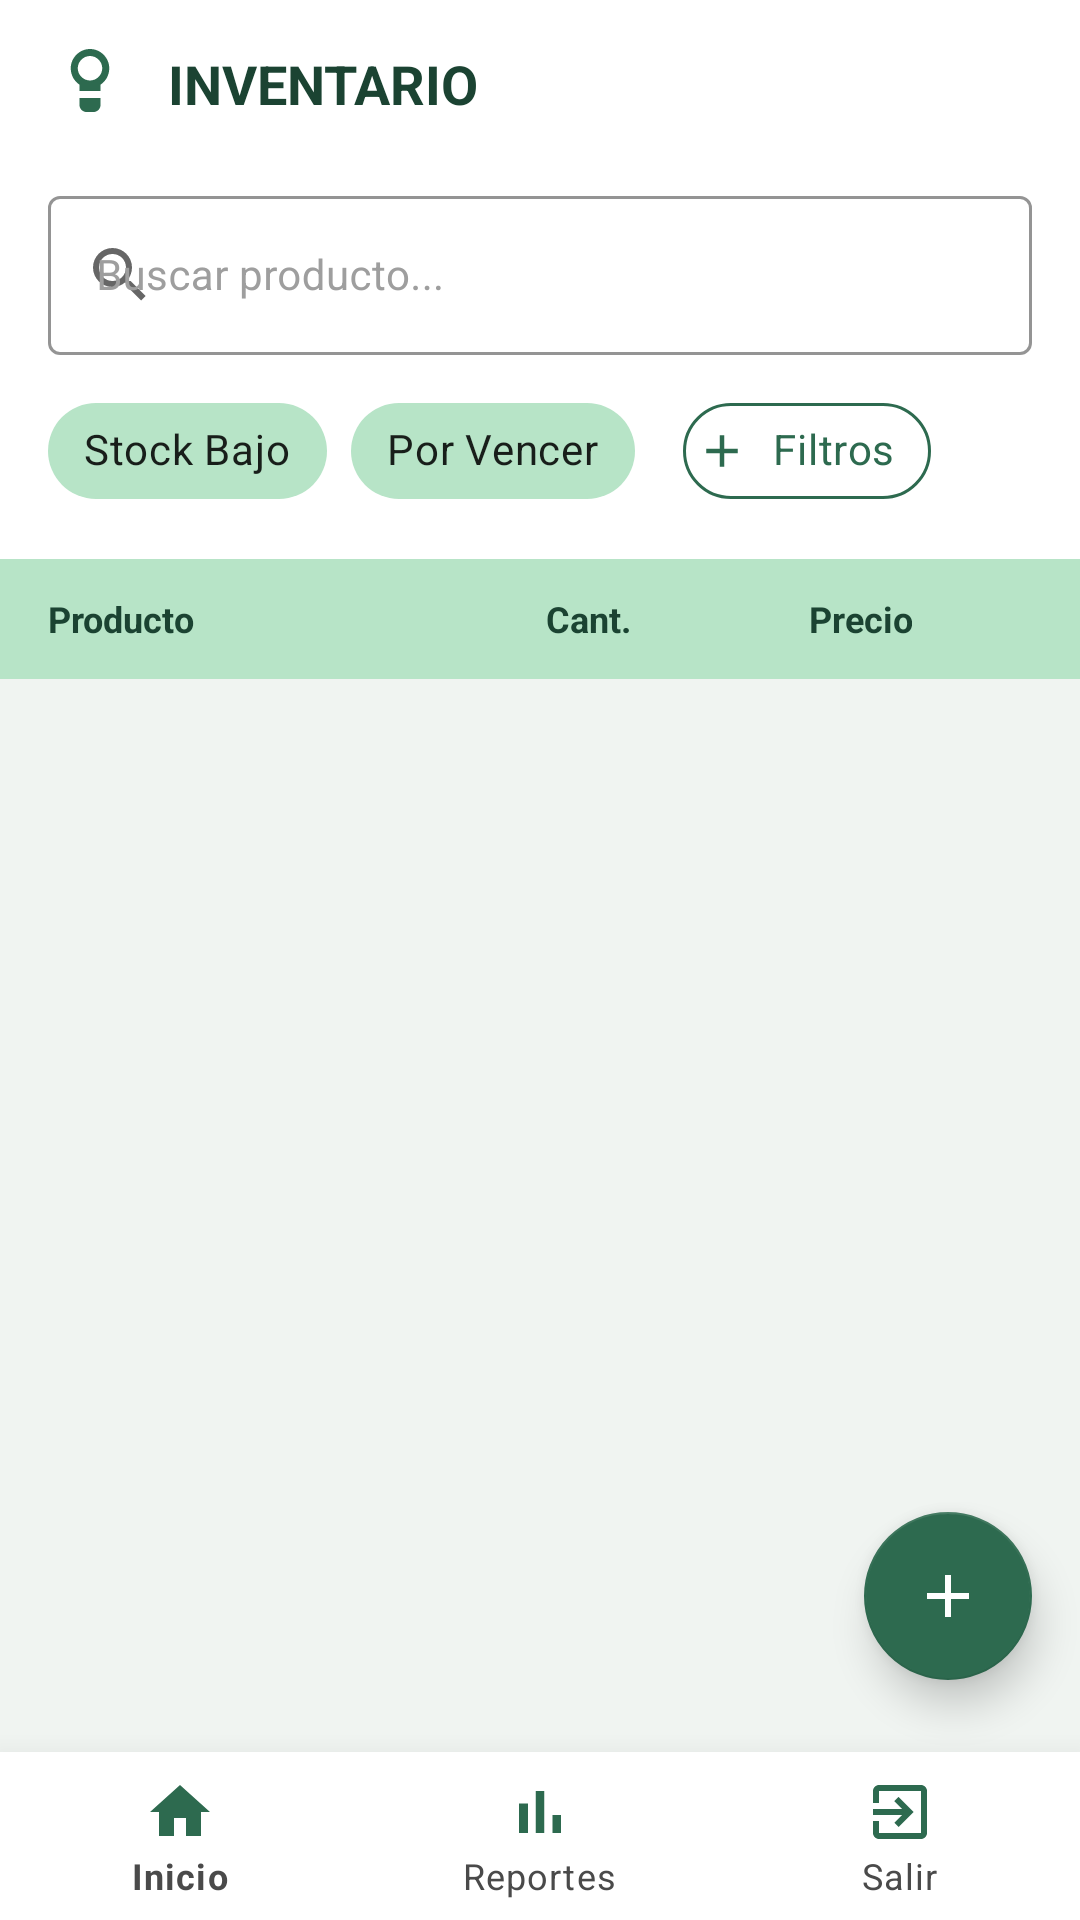

Screen size 1080w x 1920h. Icon name, then its center in pixels as point (x, y):
Añadir Producto: point (948, 1596)
